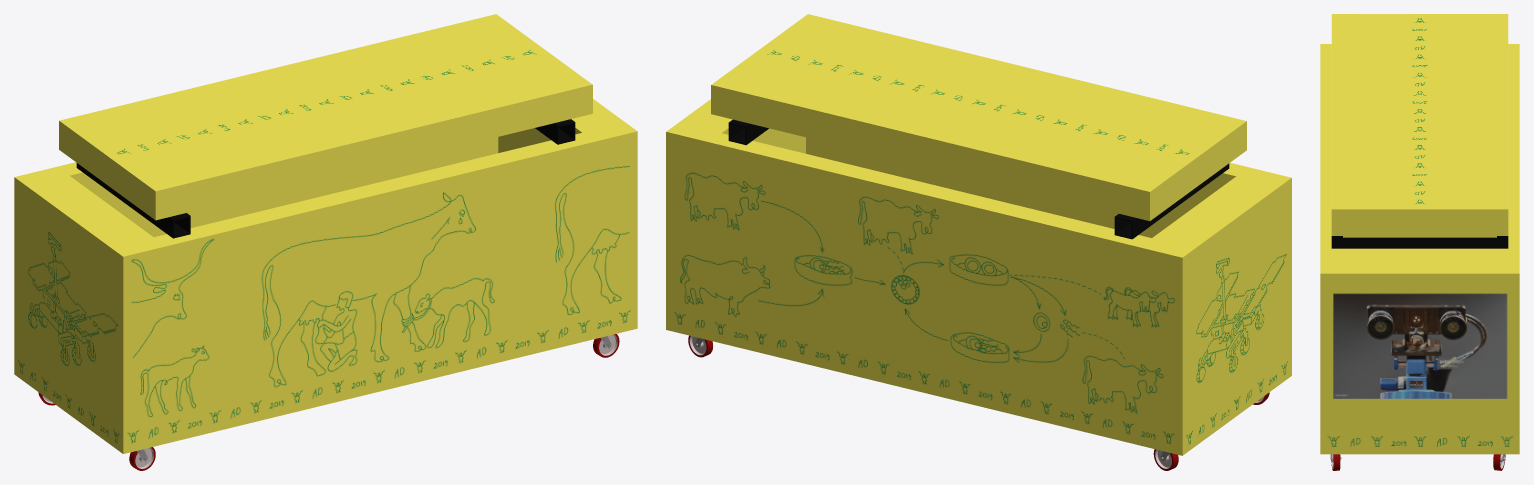
Rendered from Sarkofag1.FBX.
The picture shows the model from 3 angles, left to right: view 1: azimuth 30°, elevation 25°; view 2: azimuth 150°, elevation 25°; view 3: azimuth 270°, elevation 25°; orthographic projection. The views are drawn at different scales.
Visible parts, largest first — view 1: Box001, Object001; view 2: Box001, Object001; view 3: Box001, Object001.
Boxes of the visible parts, bbox=[...] form: Box001: bbox=[14, 14, 637, 453]; Object001: bbox=[76, 119, 575, 238]; Box001: bbox=[666, 14, 1291, 455]; Object001: bbox=[728, 119, 1229, 239]; Box001: bbox=[1320, 14, 1519, 454]; Object001: bbox=[1331, 236, 1508, 248].
Size of the model in its own units: 240 by 124 by 88.
